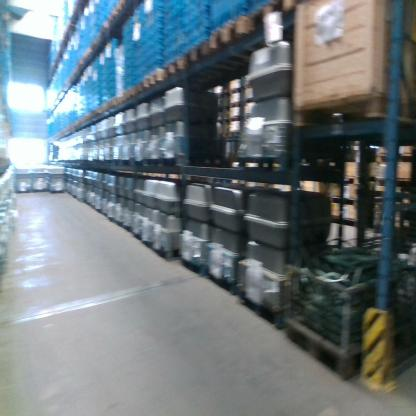pallet: (240, 287, 291, 328), (246, 0, 283, 36), (209, 16, 246, 51), (207, 267, 240, 292), (183, 40, 209, 69), (181, 253, 209, 279), (161, 57, 184, 80), (155, 245, 181, 262), (143, 69, 161, 88), (134, 80, 144, 95), (116, 0, 126, 12), (229, 87, 241, 96), (229, 101, 240, 109), (229, 115, 240, 122)
stillage: (286, 252, 413, 384)
